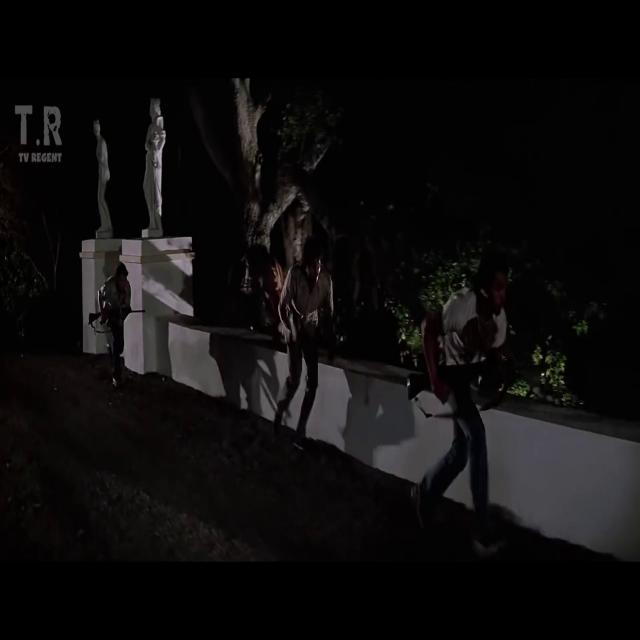long weapon: (396, 340, 538, 434), (86, 292, 147, 350)
